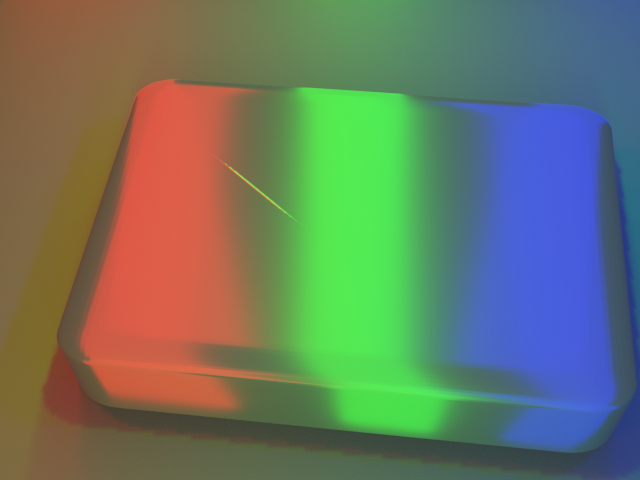scratch: (61, 70, 465, 311)
